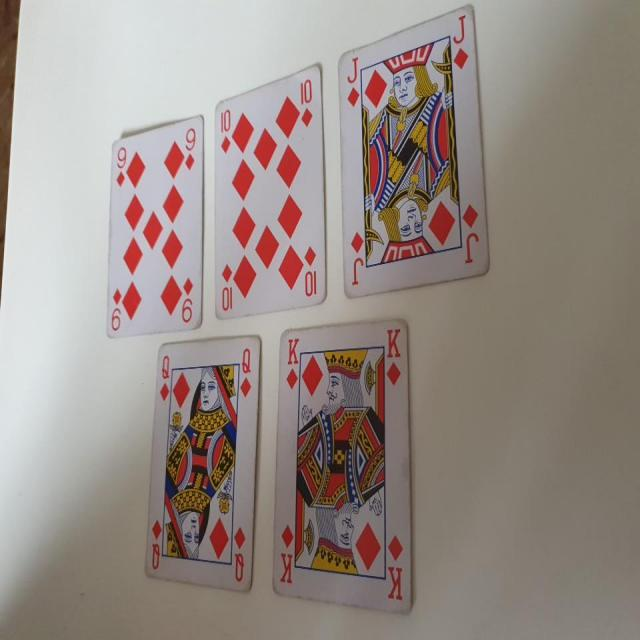10 Diamonds: (213, 62, 329, 321)
9 Diamonds: (104, 111, 206, 336)
J Diamonds: (334, 2, 490, 301)
K Diamonds: (270, 316, 415, 615)
Q Diamonds: (143, 334, 264, 595)
